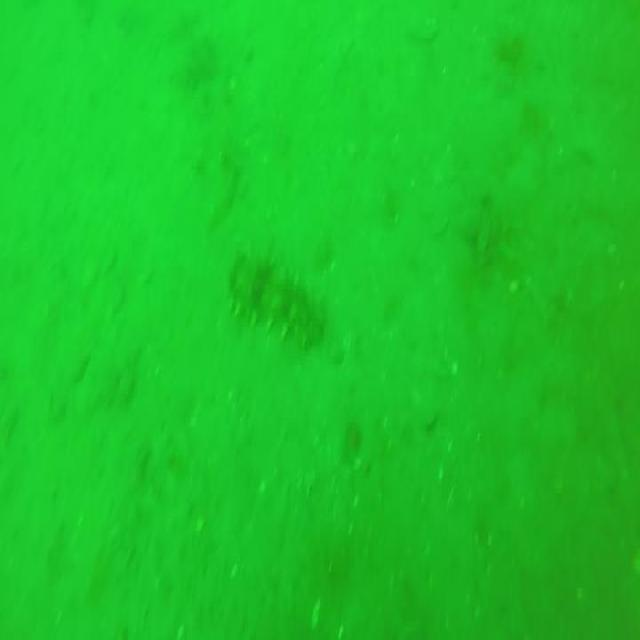holothurian: (219, 250, 317, 344)
starfish: (464, 194, 521, 266)
